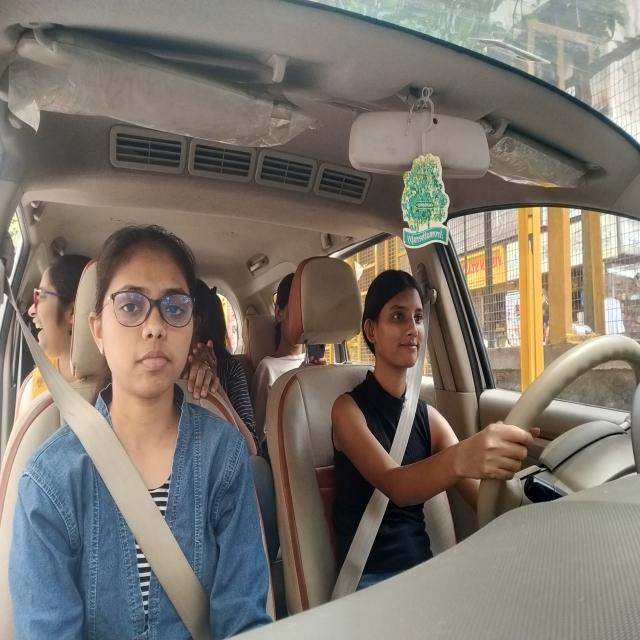person: (98, 235, 194, 398), (358, 272, 440, 376), (27, 264, 77, 356), (201, 292, 232, 371), (274, 279, 304, 358)
